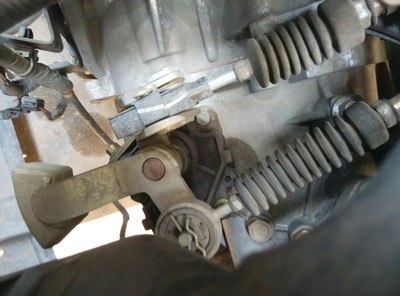oil: (61, 108, 263, 204)
